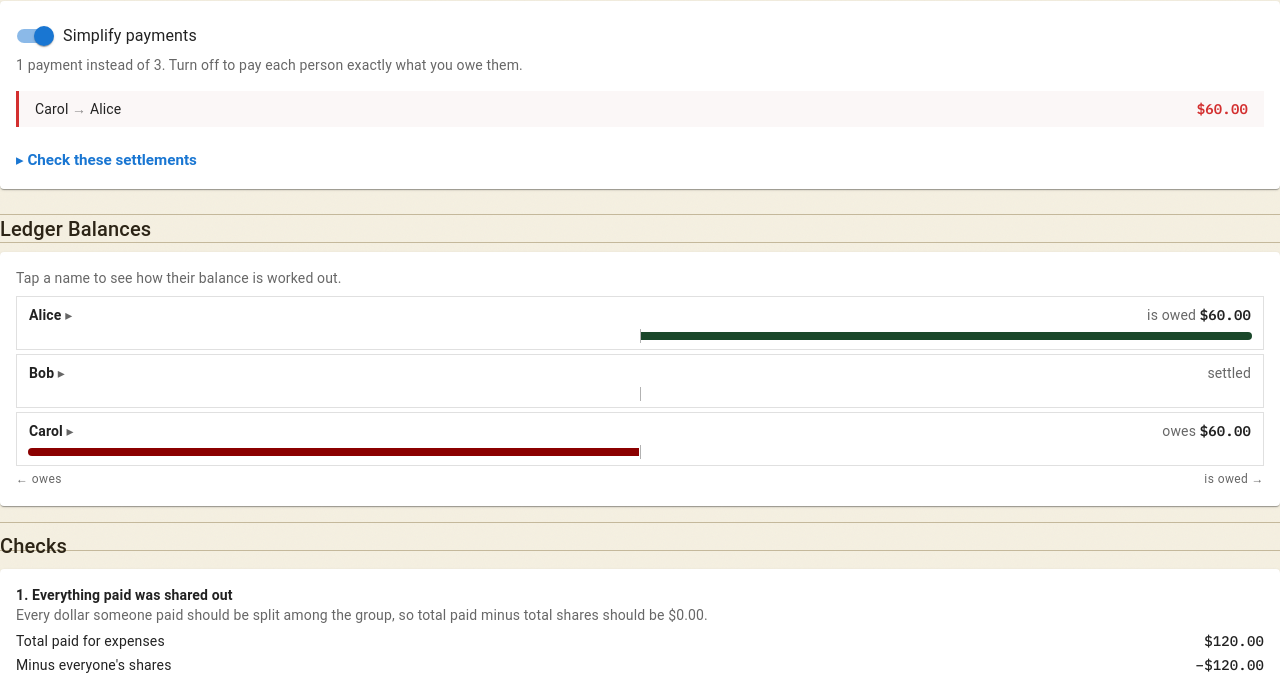
Scenario: Simplify payments › traces each person's direct debts in their breakdown
Click the button "Carol ▸ owes $60.00" at (46, 431), box [17,413,1263,465]
(page scrolled)
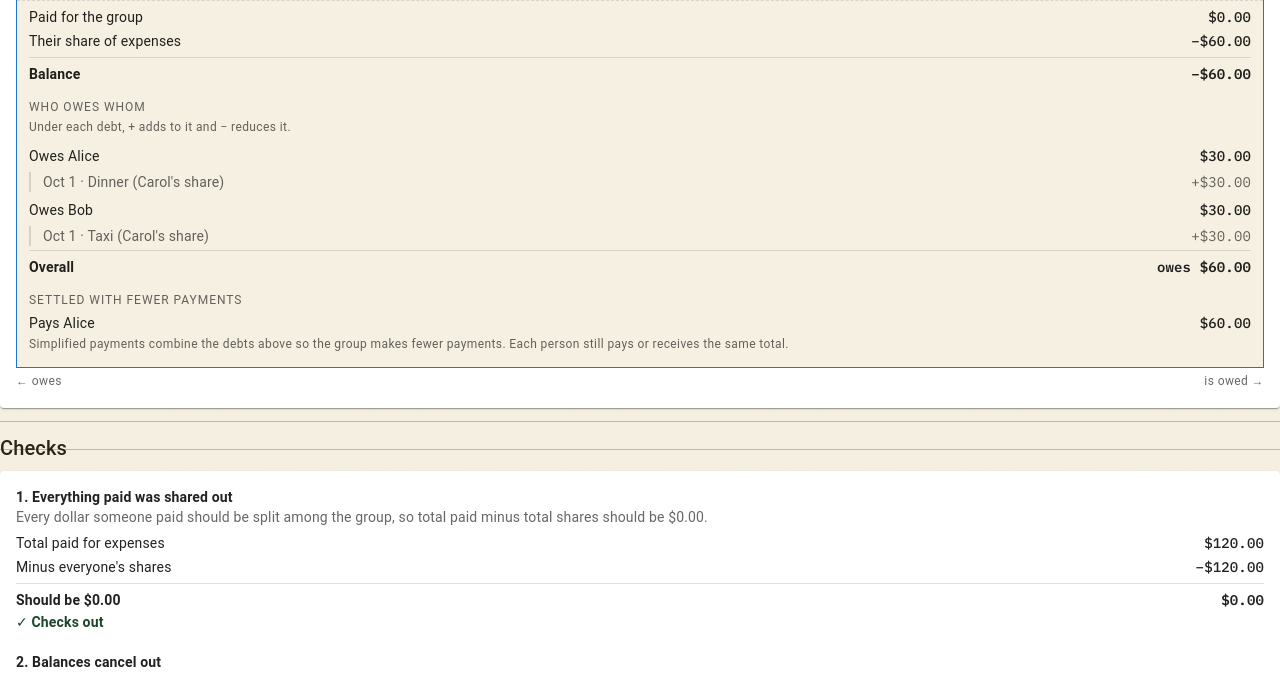
Expected: the text "Owes Alice" is shown, [29,146,100,166]
Expected: the text "Owes Bob" is shown, [29,200,93,220]
Expected: the text "Oct 1 · Dinner (Carol's share)" is shown, [43,172,224,192]
